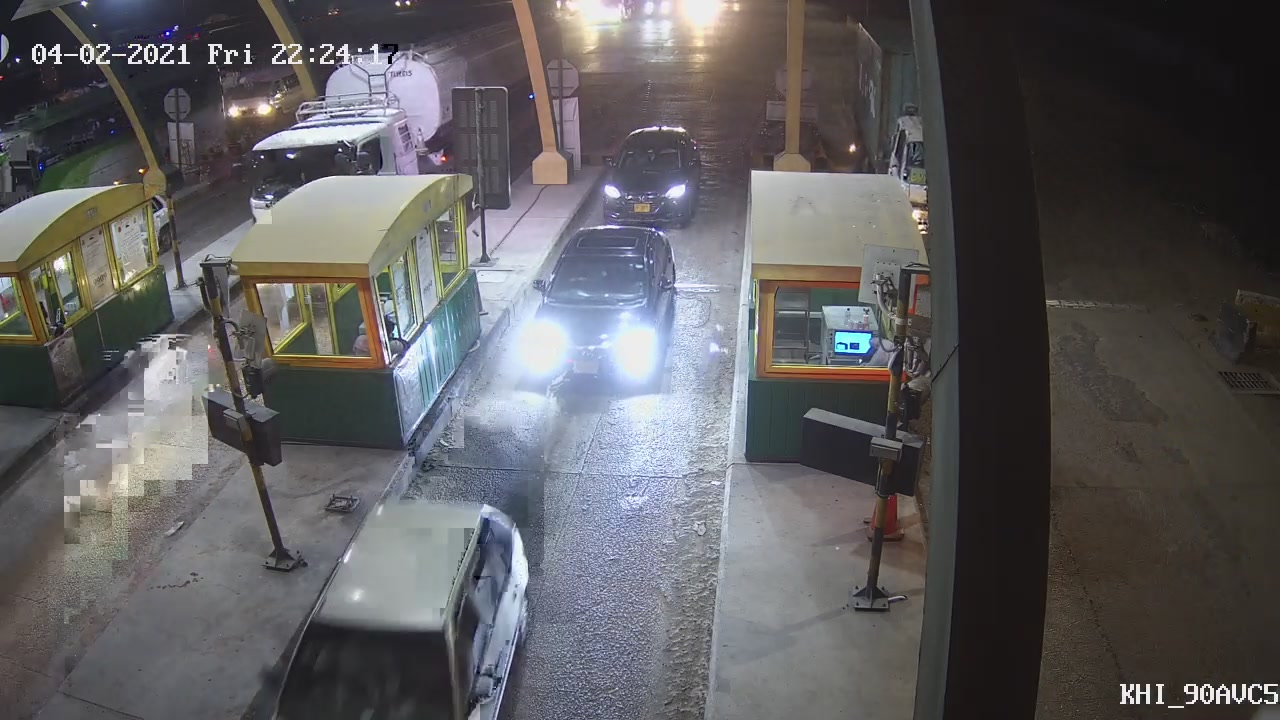F1: (519, 222, 682, 401)
